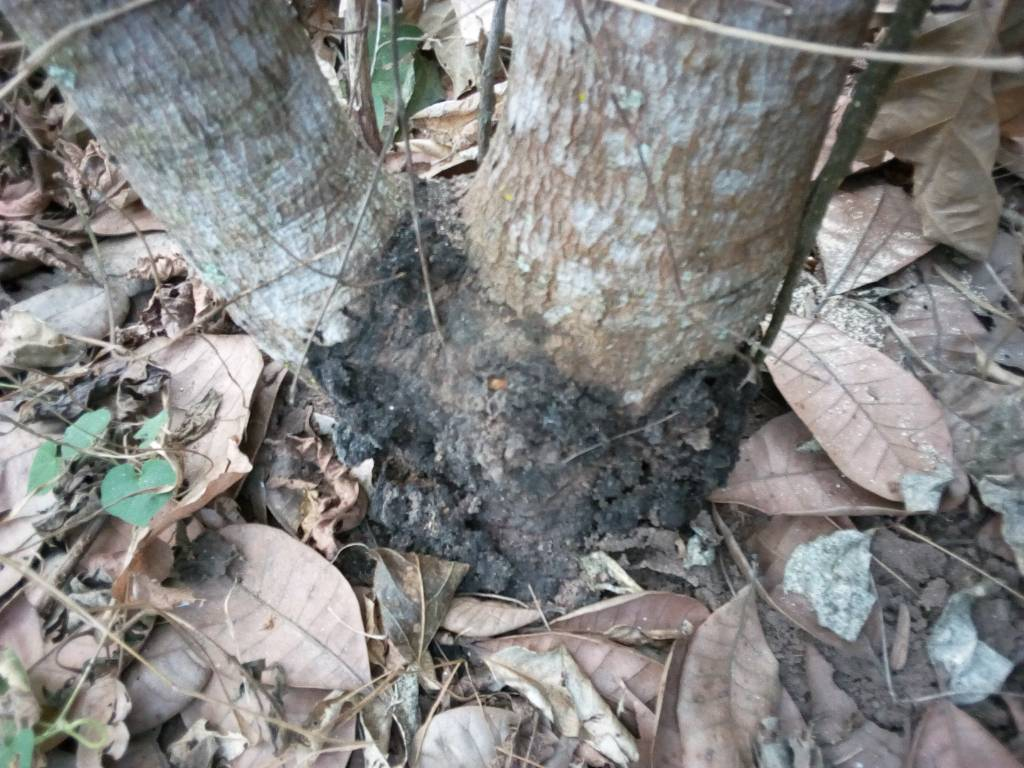Gommose: (316, 332, 742, 587)
